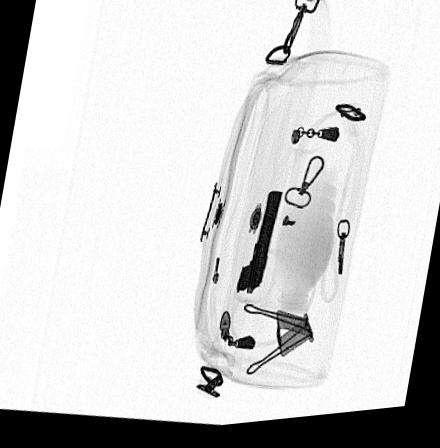Gun: (233, 196, 282, 300)
